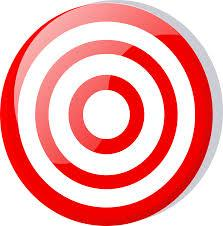target_red: (0, 0, 222, 225)
